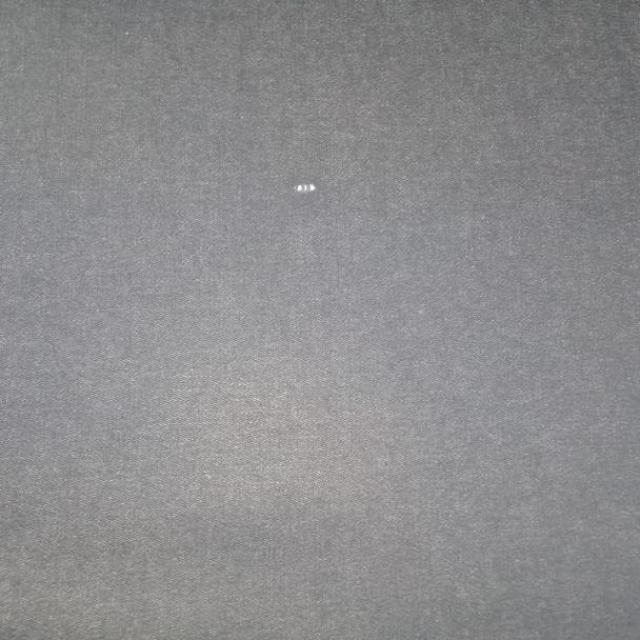Knot: (294, 183, 317, 193)
